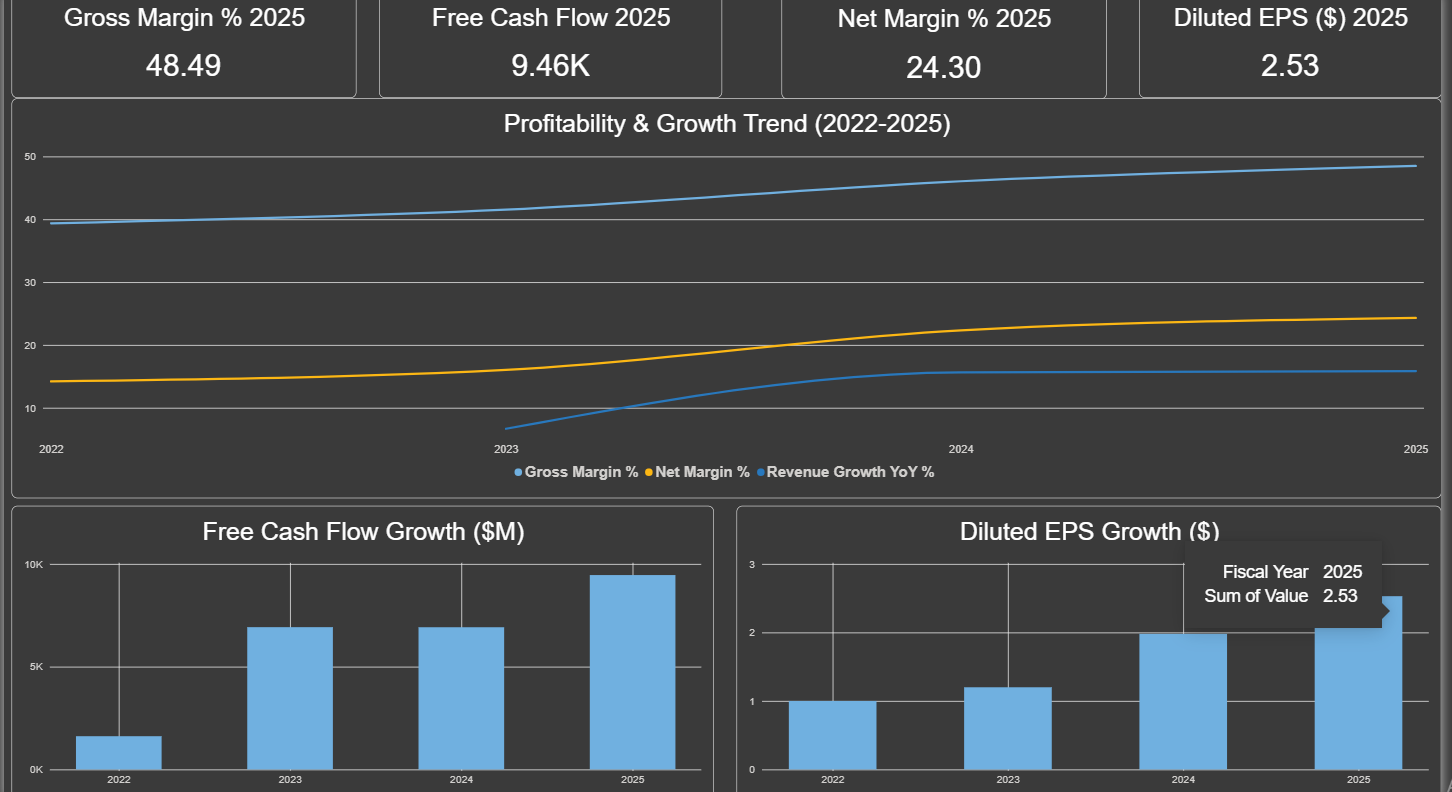

Layout of this report page (visuals, bound fields, positions):
{"tool":"powerbi","page":{"name":"Page 1","canvas":[1920,1080],"ordinal":0},"visuals":[{"type":"card","title":"Gross Margin % 2025","fields":{"Values":["Sum(financial_ratios_summary.Value)"]},"box":[10.5,0,460.5,141.3],"z":0},{"type":"card","title":"Net Margin % 2025","fields":{"Values":["Sum(financial_ratios_summary.Value)"]},"box":[1037.8,1.7,434.3,141.3],"z":1},{"type":"card","title":"Diluted EPS ($) 2025","fields":{"Values":["Sum(financial_ratios_summary.Value)"]},"box":[1515.7,0,404.7,141.3],"z":2},{"type":"card","title":"Free Cash Flow 2025","fields":{"Values":["Sum(financial_ratios_summary.Value)"]},"box":[500.6,0,458.7,141.3],"z":3},{"type":"lineChart","title":"Profitability & Growth Trend (2022-2025)","fields":{"Category":["financial_ratios_summary.Fiscal Year"],"Series":["financial_ratios_summary.Metric"],"Y":["Sum(financial_ratios_summary.Value)"]},"box":[10,141.9,1910.2,534.3],"z":4},{"type":"clusteredColumnChart","title":"Free Cash Flow Growth ($M)","fields":{"Category":["financial_ratios_summary.Fiscal Year"],"Y":["Sum(financial_ratios_summary.Value)"]},"box":[10,686.3,938.4,394.1],"z":5},{"type":"clusteredColumnChart","title":"Diluted EPS Growth ($)","fields":{"Category":["financial_ratios_summary.Fiscal Year"],"Y":["Sum(financial_ratios_summary.Value)"]},"box":[978.5,686.3,941.7,394.1],"z":6}]}

Visuals, with their boxes in screenshot pixels (x1, y1, x2, y2):
"Gross Margin % 2025" card: pyautogui.locateOnScreen(8, 0, 352, 94)
"Net Margin % 2025" card: pyautogui.locateOnScreen(776, 0, 1101, 96)
"Diluted EPS ($) 2025" card: pyautogui.locateOnScreen(1134, 0, 1437, 94)
"Free Cash Flow 2025" card: pyautogui.locateOnScreen(375, 0, 718, 94)
"Profitability & Growth Trend (2022-2025)" lineChart: pyautogui.locateOnScreen(7, 95, 1437, 495)
"Free Cash Flow Growth ($M)" clusteredColumnChart: pyautogui.locateOnScreen(7, 502, 710, 791)
"Diluted EPS Growth ($)" clusteredColumnChart: pyautogui.locateOnScreen(732, 502, 1437, 791)
